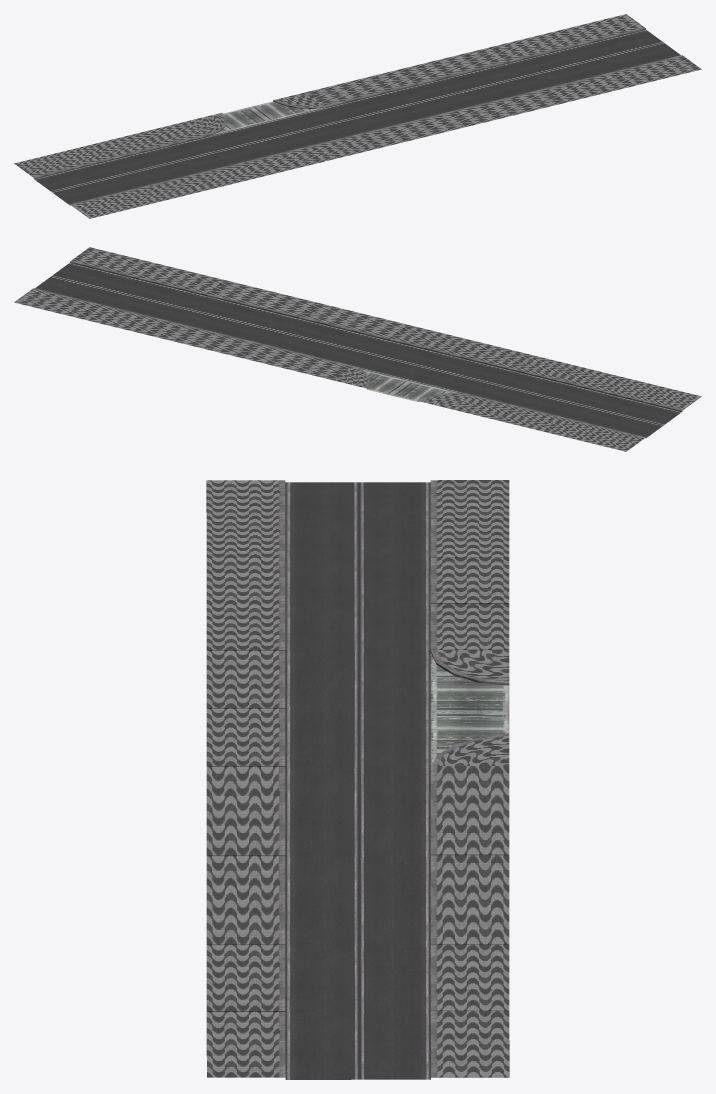
Rendered from roadssfs13.obj.
3 views of the same model, one above another, from view 1: azimuth 30°, elevation 25°; view 2: azimuth 150°, elevation 25°; view 3: azimuth 270°, elevation 25° (orthographic). The views are drawn at different scales.
Visible parts, largest first — view 1: ROADSsfs13; view 2: ROADSsfs13; view 3: ROADSsfs13.
Part boxes in pixels (box(x1,y1,x2,y2)): ROADSsfs13: box(14, 14, 701, 218); ROADSsfs13: box(14, 247, 701, 451); ROADSsfs13: box(206, 480, 509, 1079).
Size of the model in its own units: 89.84 by 0.1648 by 19.26.
3 materials, 3 textured.
